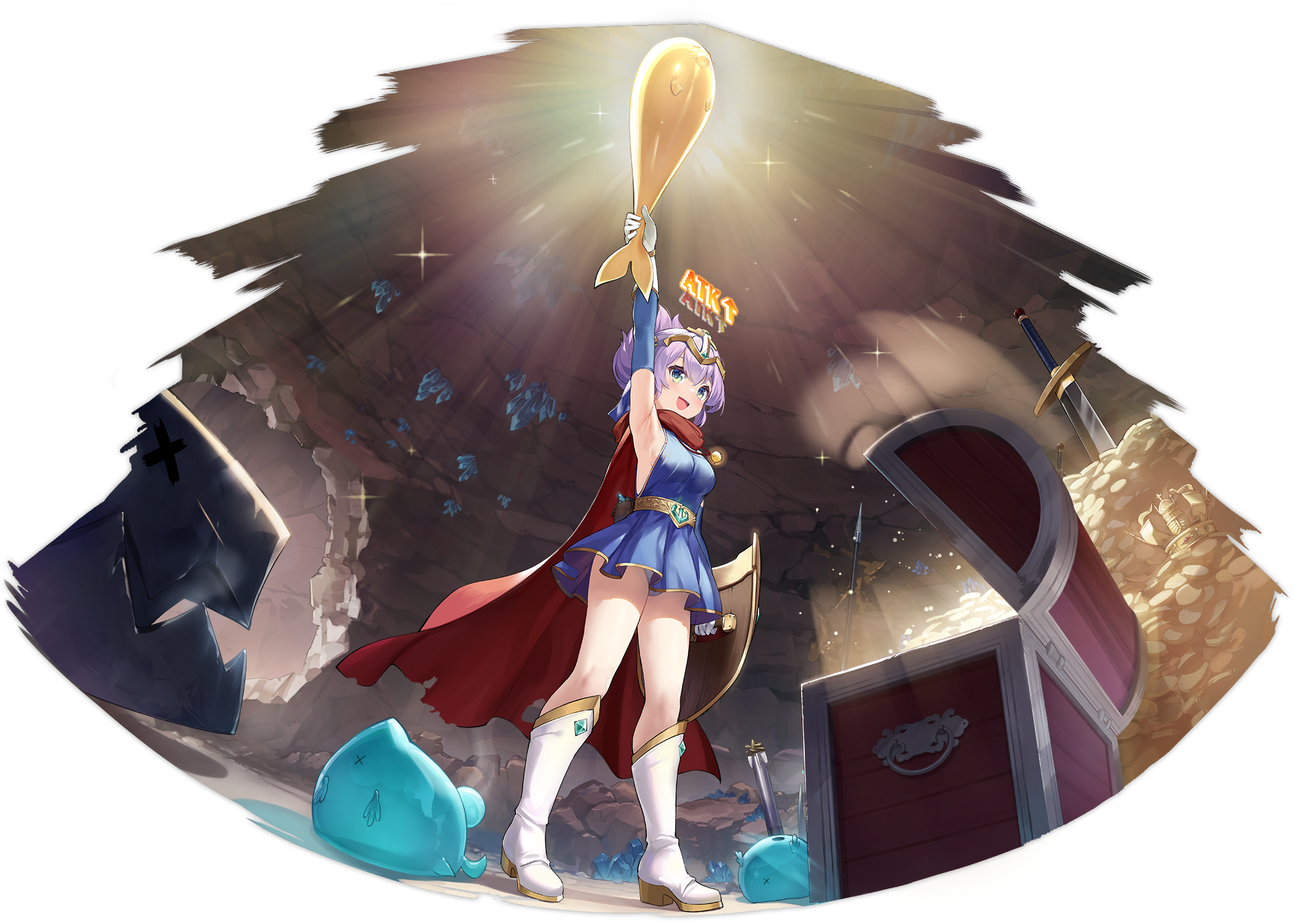person: (327, 209, 829, 914)
